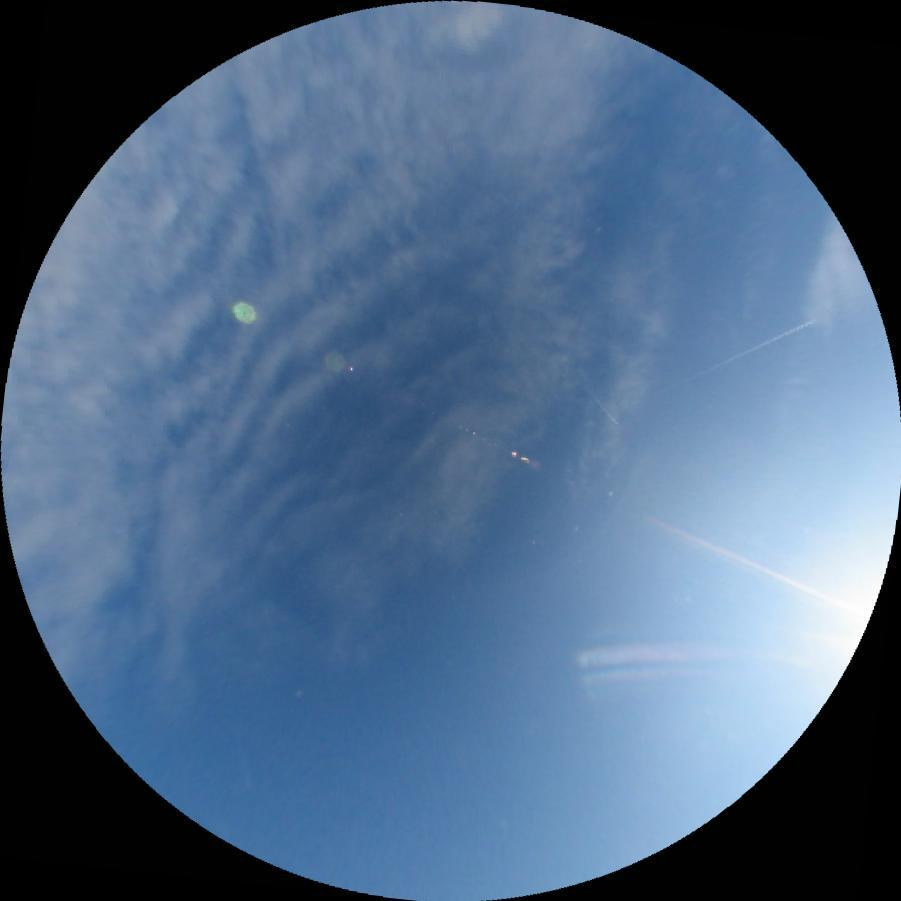contrail young: (670, 317, 815, 388), (585, 386, 618, 425), (238, 738, 251, 786)
parasite: (649, 516, 820, 596), (575, 640, 746, 667)
